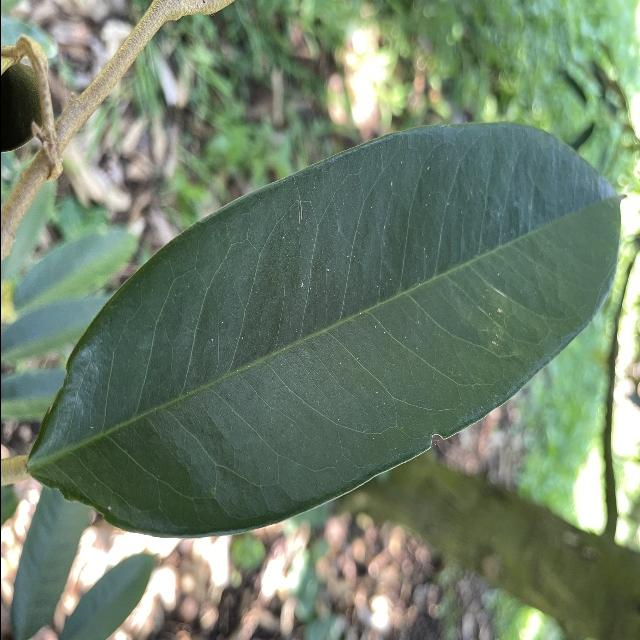No Disease: (17, 115, 627, 546)
